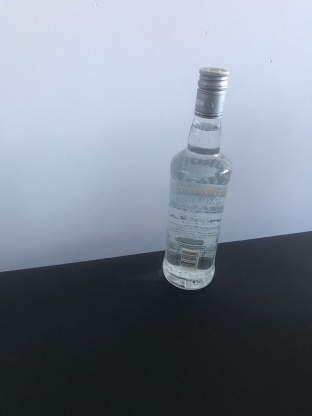nakretka: (192, 64, 230, 121)
